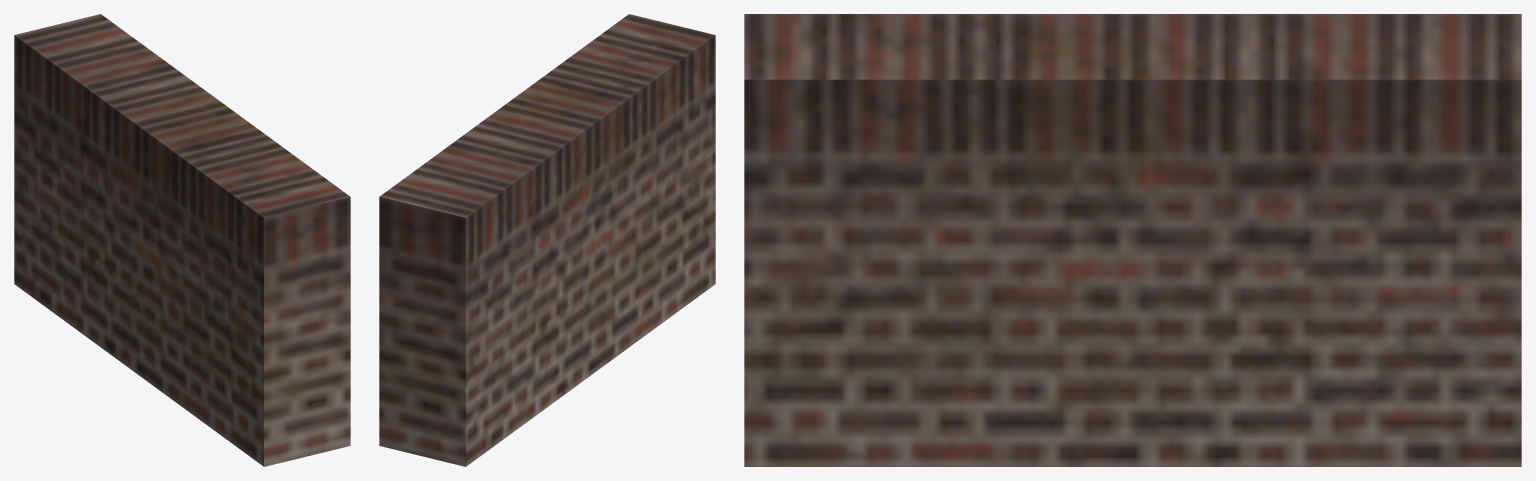
The model's file is brickwall0.fbx.
3 renders of one model, left to right at view 1: azimuth 30°, elevation 25°; view 2: azimuth 150°, elevation 25°; view 3: azimuth 270°, elevation 25°, orthographic. The views are drawn at different scales.
Visible parts, largest first — view 1: brickwall0; view 2: brickwall0; view 3: brickwall0.
Boxes of the visible parts, x1,y1,x2,y2 form: brickwall0: [14, 14, 350, 466]; brickwall0: [379, 14, 715, 466]; brickwall0: [744, 14, 1521, 466].
Size of the model in its own units: 40 by 200 by 110.
Materials: 1 (1 with a texture image).
